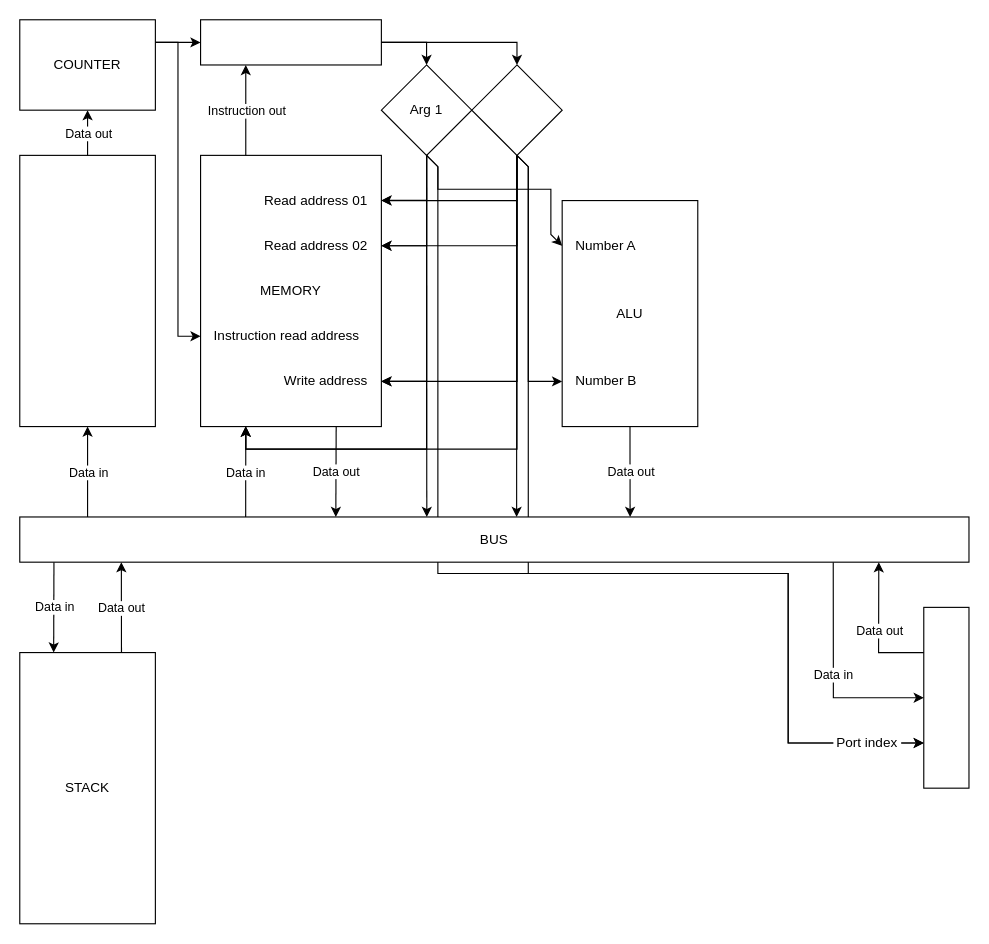
Image size: 989x944. Some labels were removed from this diagram. The shapes that lost their labels are listed below. From the top down, each one's box as (x1, y1, x2, y2) in pixels, then its label:
(199, 19, 381, 65): Micro instruction decoder
(471, 64, 562, 155): Arg 2
(19, 154, 155, 427): CALL STACK
(923, 606, 969, 788): PORTS
